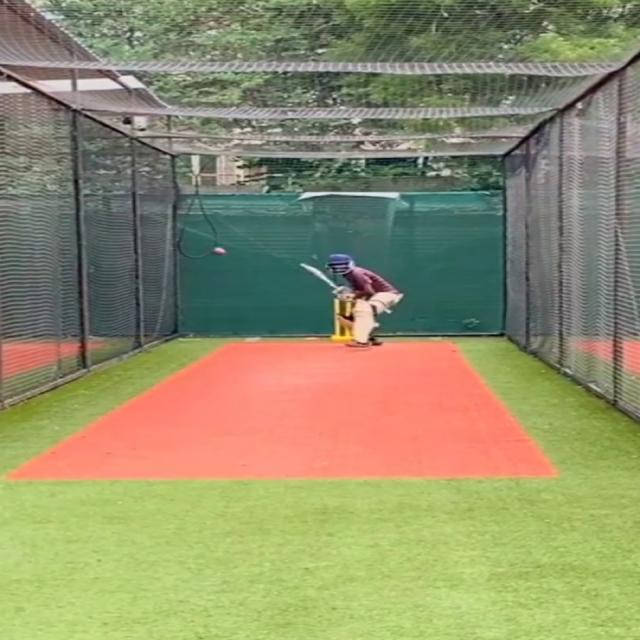ball: (210, 246, 225, 255)
stump: (329, 297, 351, 341)
